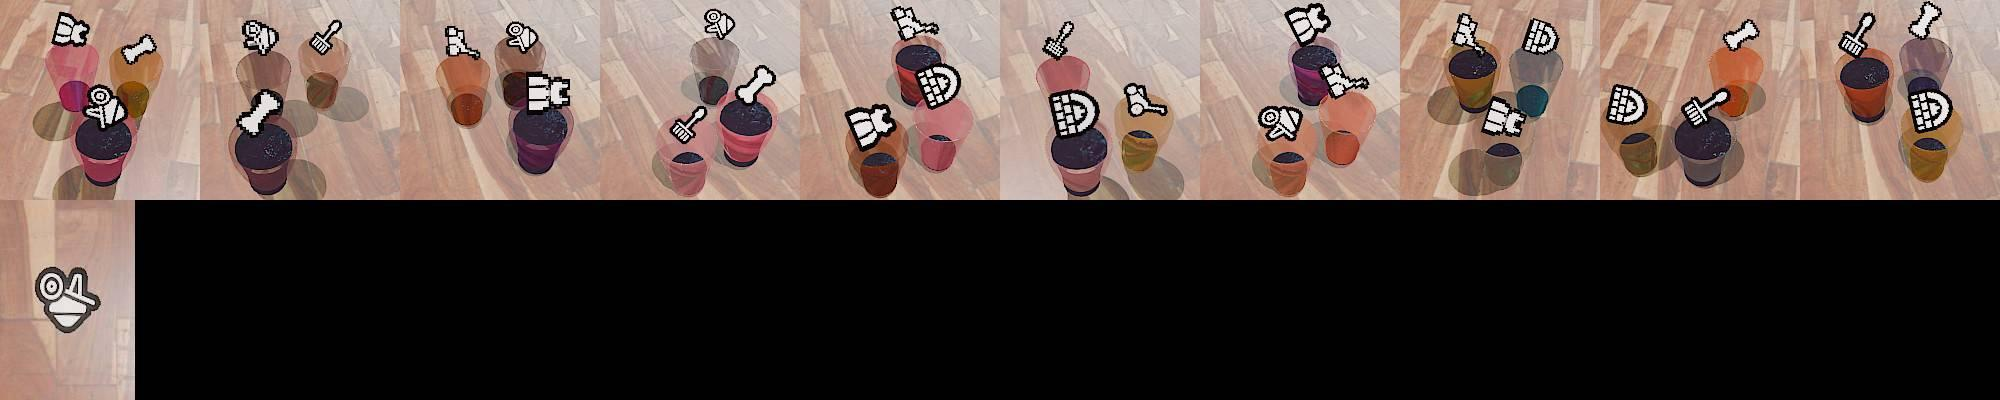icon: (34, 265, 102, 334), (1048, 88, 1099, 139), (844, 101, 897, 149), (913, 62, 962, 111), (237, 89, 283, 138), (526, 70, 574, 115), (1284, 3, 1330, 47), (1837, 11, 1878, 61), (732, 64, 777, 108), (84, 83, 128, 129), (1906, 88, 1952, 131), (1481, 96, 1527, 138), (1680, 88, 1728, 126), (889, 5, 940, 41), (1319, 62, 1370, 98), (670, 102, 710, 145), (1607, 84, 1649, 125), (1259, 103, 1304, 141), (1122, 82, 1168, 117), (1520, 18, 1561, 56), (51, 10, 92, 48), (241, 18, 281, 56), (443, 24, 481, 60), (1721, 18, 1760, 52), (1041, 19, 1074, 60), (1909, 1, 1944, 39), (119, 33, 157, 66), (309, 19, 343, 55), (505, 20, 540, 54), (1452, 13, 1482, 50), (703, 8, 737, 39)
